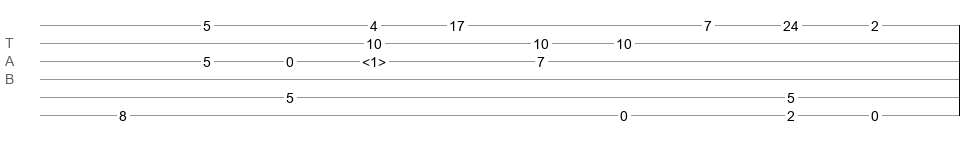0: (286, 54, 294, 64), (620, 108, 628, 118), (871, 108, 879, 118)
10: (366, 36, 382, 46), (533, 36, 549, 46), (616, 36, 632, 46)
17: (449, 18, 465, 28)
2: (787, 108, 795, 118), (871, 18, 879, 28)
24: (783, 18, 799, 28)
4: (370, 18, 378, 28)
5: (203, 18, 211, 28), (203, 54, 211, 64), (286, 90, 294, 100), (787, 90, 795, 100)
7: (537, 54, 545, 64), (704, 18, 712, 28)
8: (119, 108, 127, 118)
harmonic: (362, 54, 386, 64)
